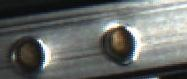joints: (98, 22, 140, 66), (8, 34, 51, 75)
